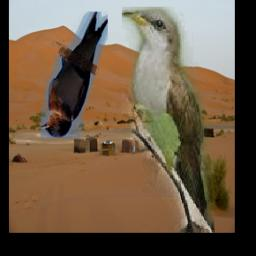Cuckoo: (123, 7, 215, 233)
Swallow: (41, 13, 108, 139)
